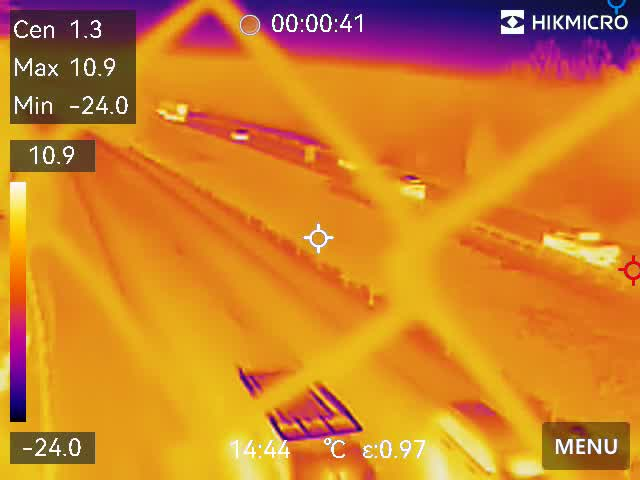heavyTruck: (154, 99, 191, 116)
largeCar: (228, 358, 383, 480), (431, 379, 551, 480), (391, 170, 428, 201)
lightTruck: (543, 224, 632, 267)
vehicle: (222, 126, 253, 143)
